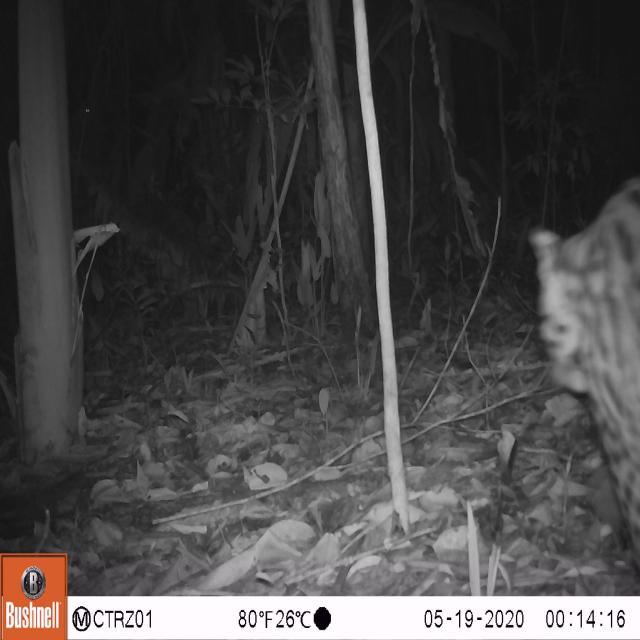Ocelote: (532, 168, 640, 577)
